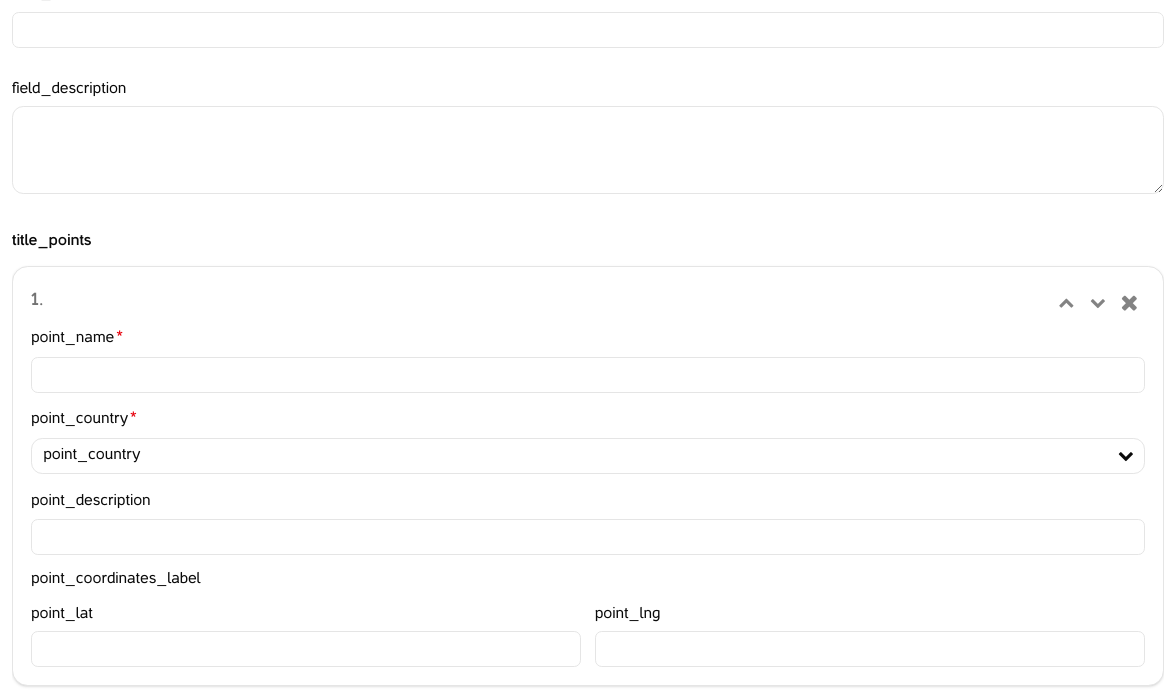
it: Validation and submission blocking › CAM-FE-09: submit with empty camino name shows error and blocks submission
Expected: the dropdown is shown, [31,438,1145,474]
// Fill a valid point so only the camino name is missing
Type "Paris" into the field labelled "point_name" at {"x": 588, "y": 374}, box [31,356,1145,392]
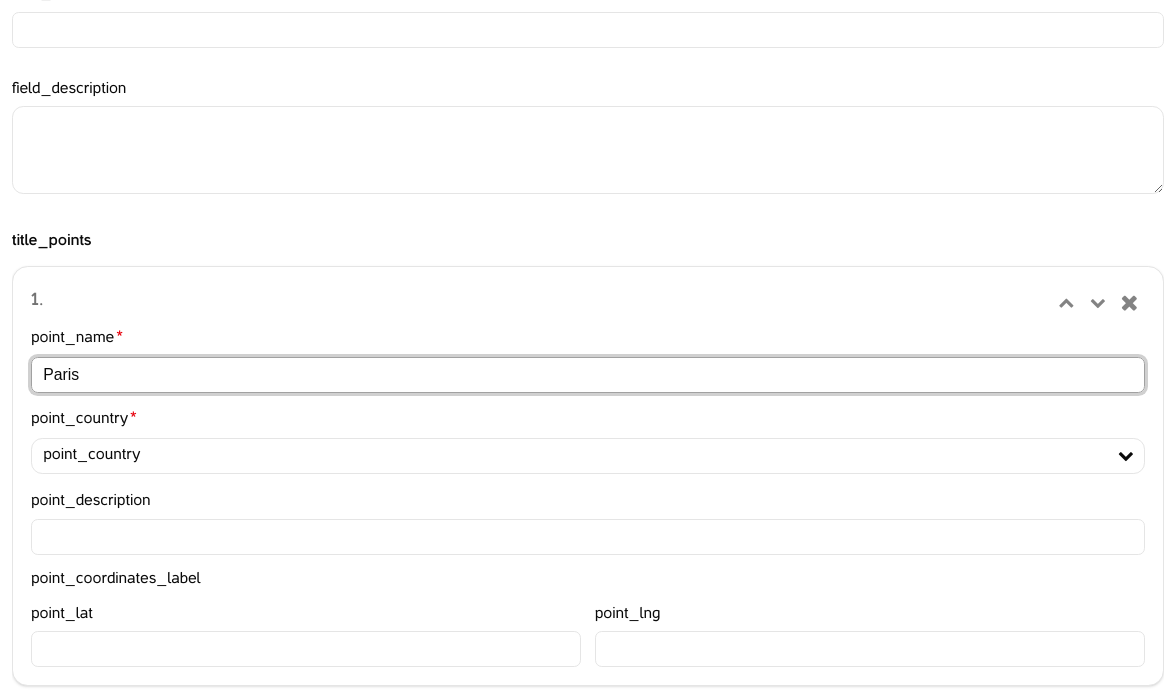
Select "france" in the dropdown labelled "point_country" at {"x": 588, "y": 456}, box [31,438,1145,474]
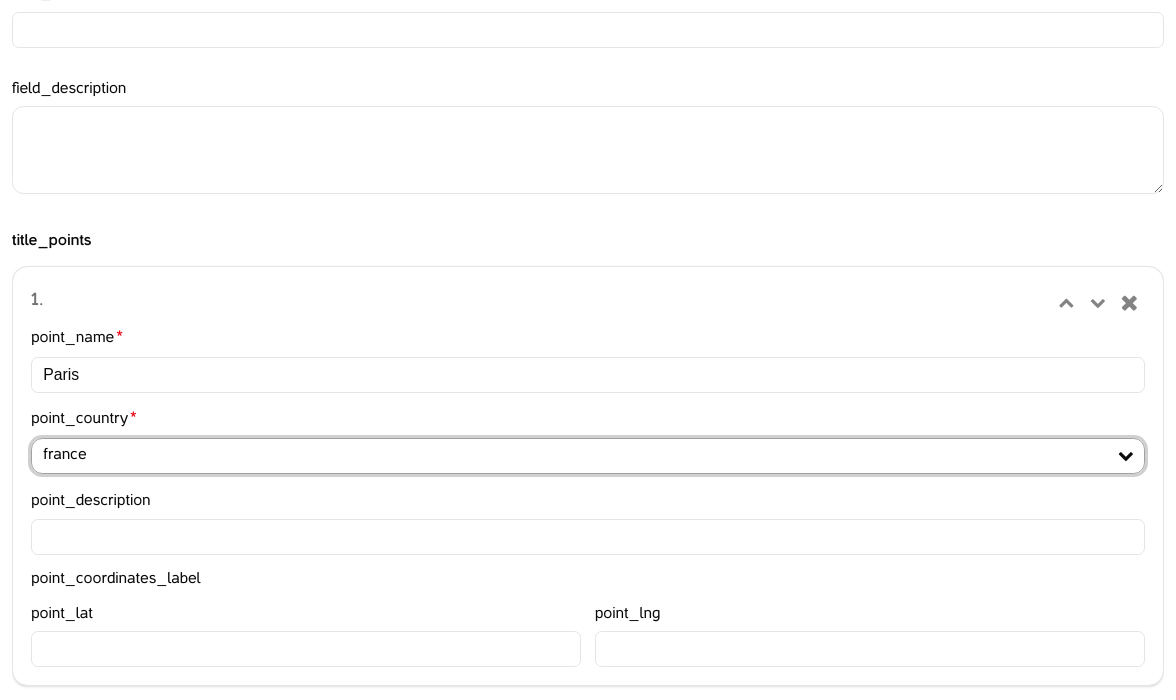
// Touch camino name field then clear it to trigger the required error
Type "x" into the field labelled "field_name" at {"x": 588, "y": 30}, box [12,12,1164,48]
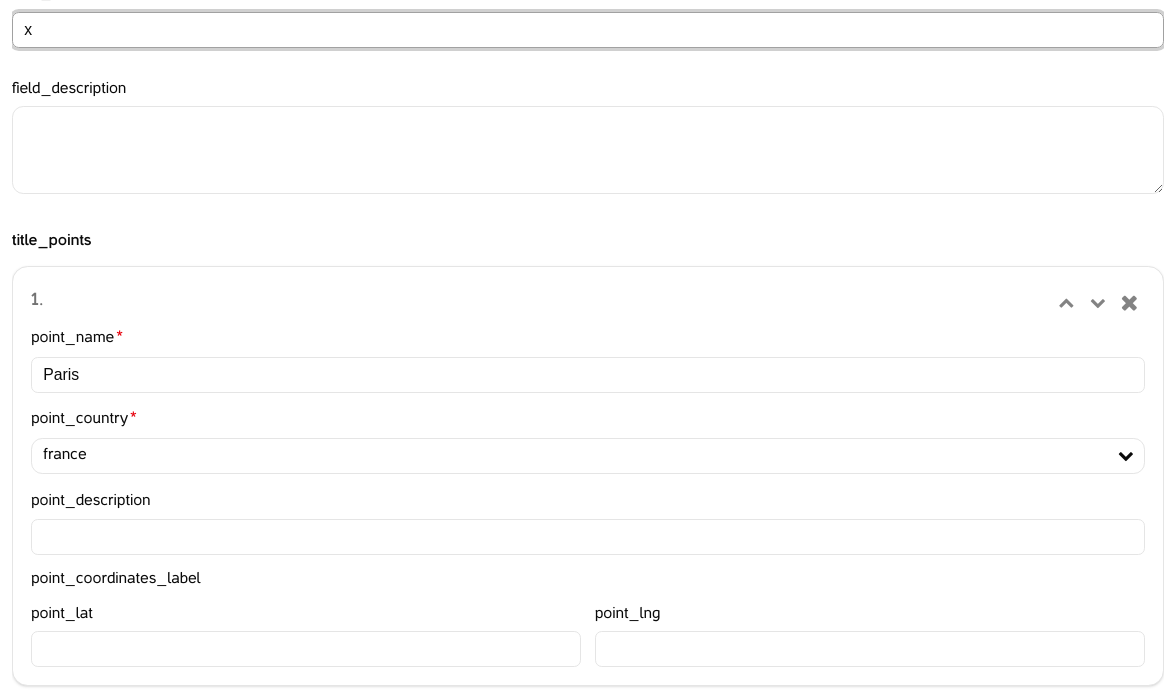
Clear the field labelled "field_name" at {"x": 588, "y": 30}, box [12,12,1164,48]
(page scrolled)
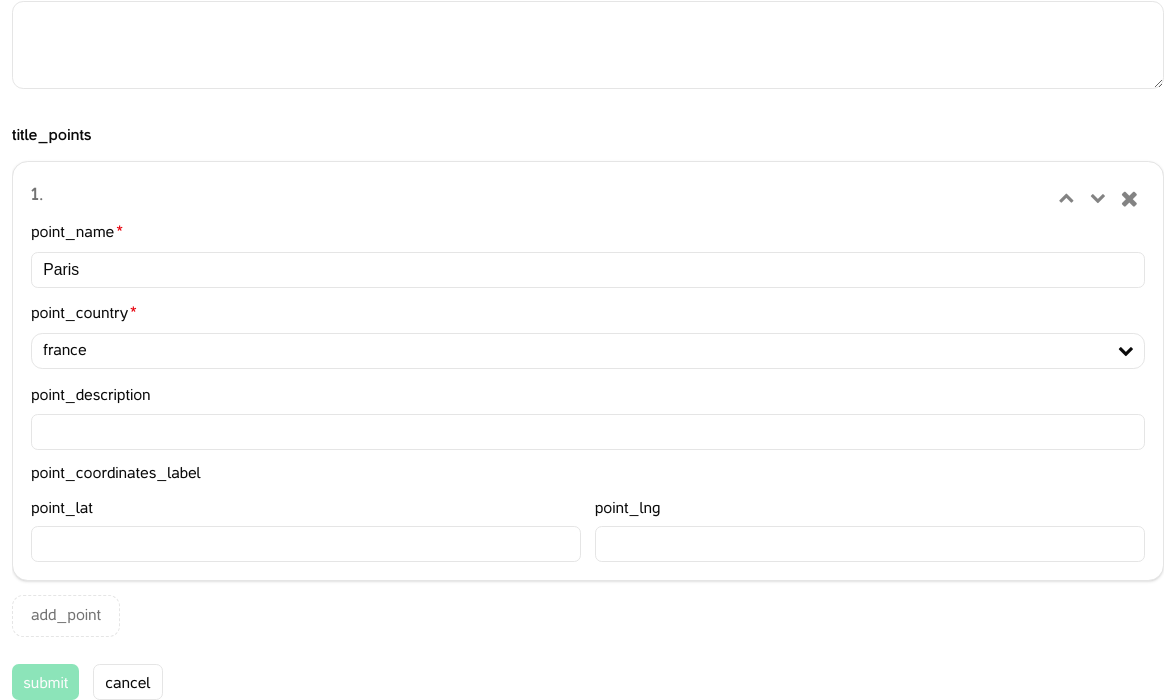
Expected: the button "submit" is disabled, [12,664,79,699]
